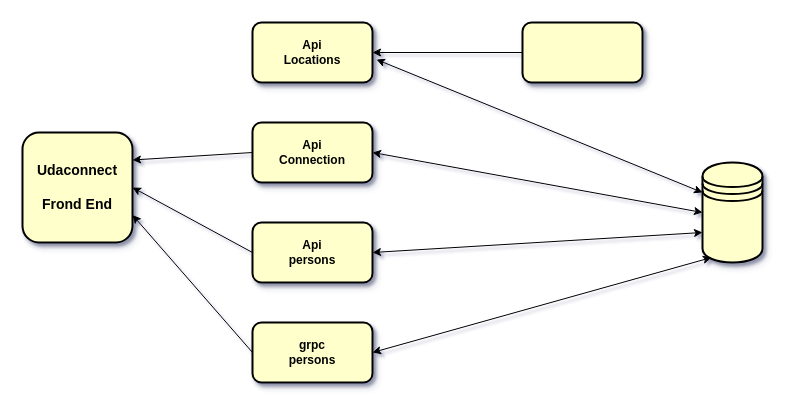
Some shapes in this 792 by 413 pixel diagram are drawn without their labels. Here are the shapes that lost their labels. From the top down, the centre of each, then its label:
At pixel 583 53: "Locations Kafka".
At pixel 733 213: "DB".
